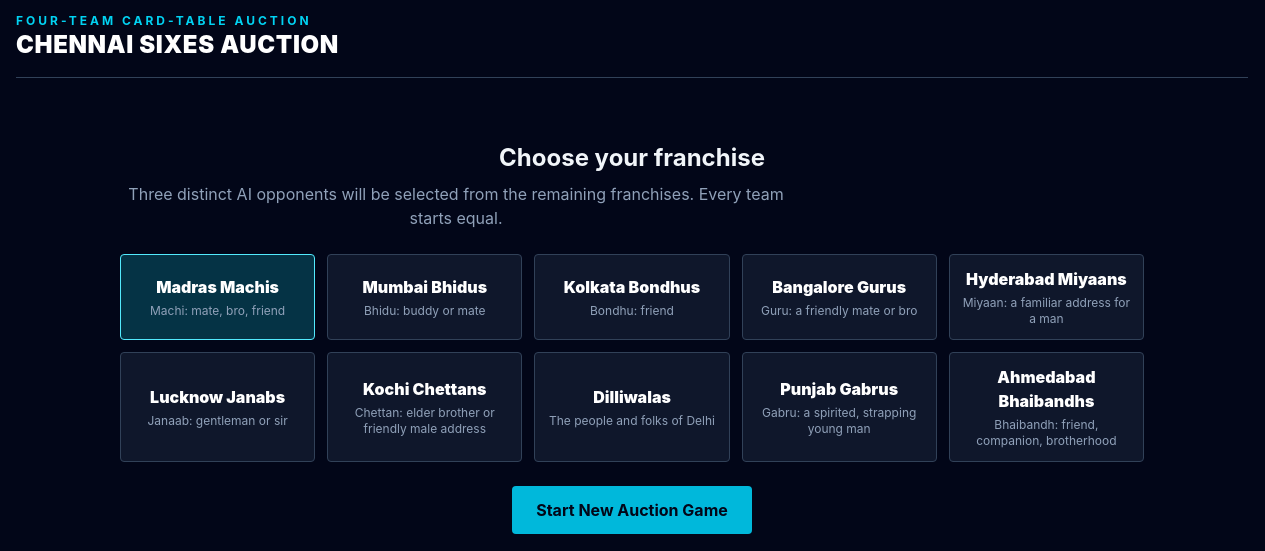
it: M9 human vs AI auction harness › creates a game while keeping all 25 selected player identities secret
Click the button "Start New Auction Game" at (632, 510), box [512,486,752,534]
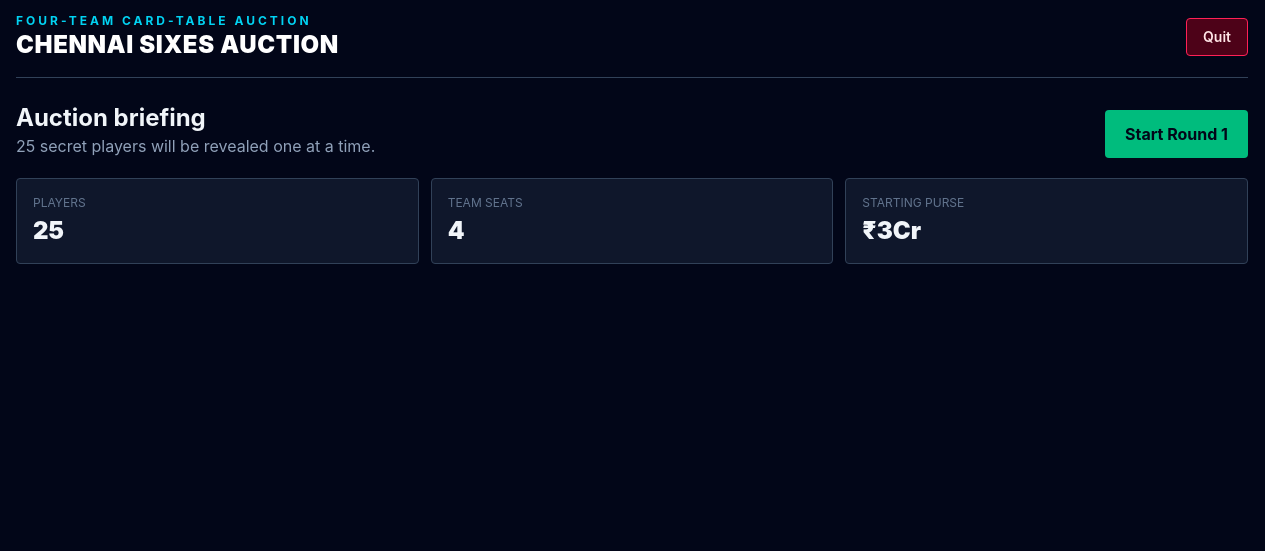
Expected: the text "25 secret players will be revealed one at a time." is shown, [16,134,375,158]
Expected: the button "Start Round 1" is shown, [1105,110,1248,158]
